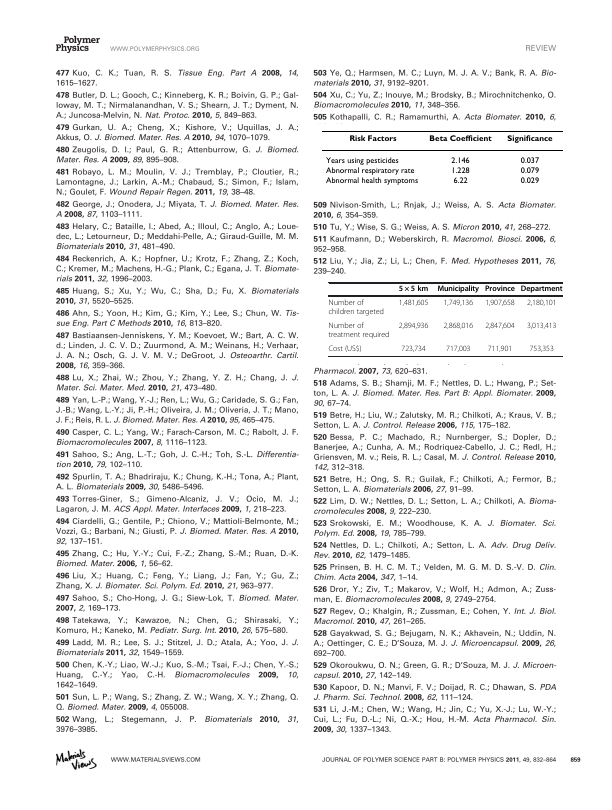borderless: (327, 281, 563, 356), (320, 129, 564, 194)
cell: (328, 321, 390, 339), (328, 298, 385, 316), (325, 176, 419, 186), (325, 166, 415, 176), (325, 156, 399, 165), (428, 134, 492, 143), (348, 134, 397, 143), (506, 134, 553, 143), (436, 285, 480, 294), (520, 285, 563, 294), (442, 298, 474, 308), (484, 298, 516, 308), (328, 344, 363, 353), (398, 298, 429, 308), (526, 298, 557, 308), (484, 285, 516, 294), (442, 321, 474, 330), (484, 321, 516, 330), (398, 285, 429, 294), (398, 321, 429, 330), (526, 321, 557, 330), (400, 344, 427, 353), (528, 344, 555, 353), (445, 344, 471, 353), (487, 344, 513, 353), (519, 166, 540, 176), (519, 176, 540, 186), (450, 166, 470, 176), (519, 156, 540, 165), (450, 156, 470, 165), (452, 176, 468, 186)
